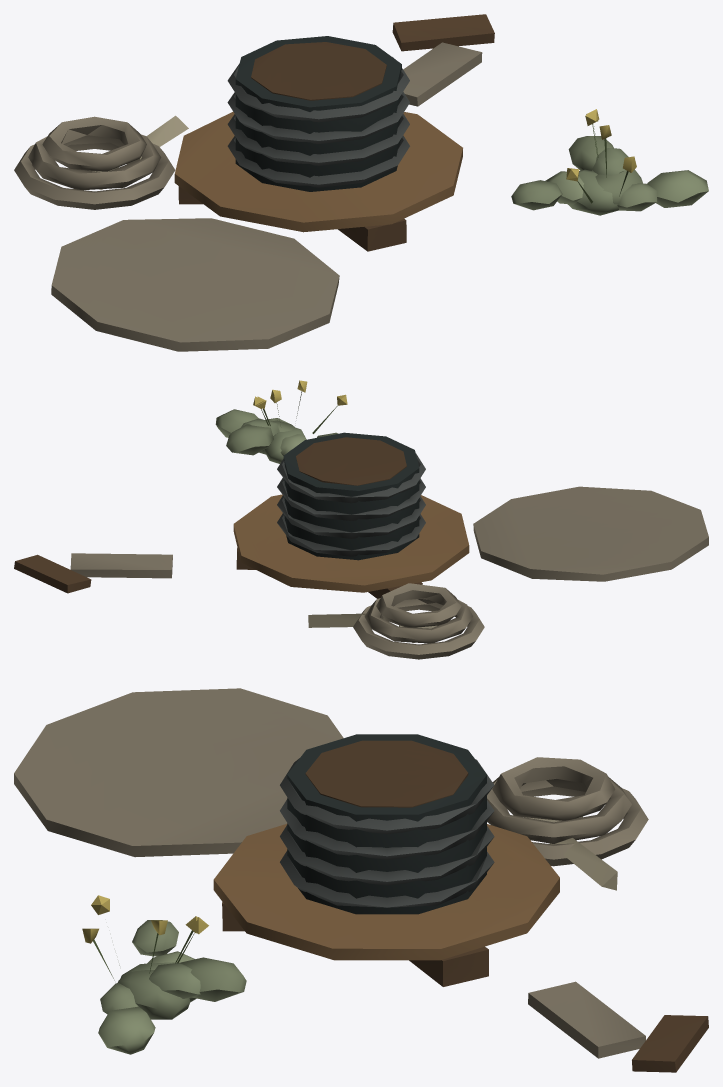
File: cable_drum_c_lod1.glb
3 views of the same model, one above another, from view 1: azimuth 30°, elevation 25°; view 2: azimuth 150°, elevation 25°; view 3: azimuth 270°, elevation 25° (orthographic). The views are drawn at different scales.
Parts seen in each view (by area): view 1: Surface.001; view 2: Surface.001; view 3: Surface.001.
Boxes of the visible parts, x1,y1,x2,y2 form: Surface.001: (14, 14, 708, 351); Surface.001: (14, 380, 708, 659); Surface.001: (14, 688, 708, 1072).
Size of the model in its own units: 7.59 by 1.48 by 6.26.
